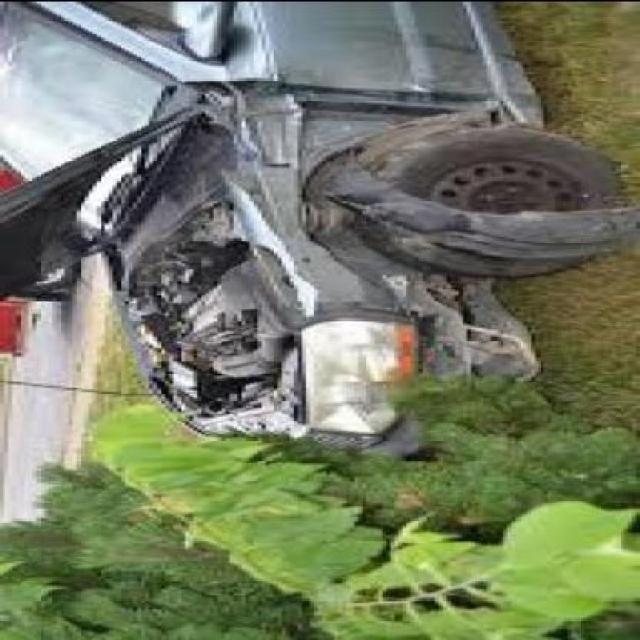damage: (183, 79, 635, 460)
